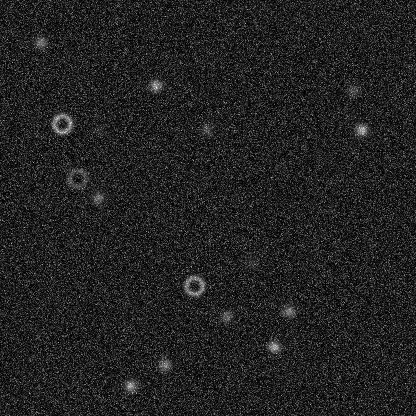Ring: (49, 111, 73, 135), (182, 273, 206, 297), (65, 166, 89, 190)
Spot: (218, 308, 234, 324), (89, 190, 105, 206), (345, 82, 361, 98), (91, 121, 107, 137), (280, 303, 296, 319), (32, 34, 48, 50), (266, 338, 282, 354), (122, 377, 138, 393), (147, 77, 163, 93), (156, 356, 172, 372), (198, 121, 214, 137), (243, 254, 259, 270), (353, 121, 369, 137)
